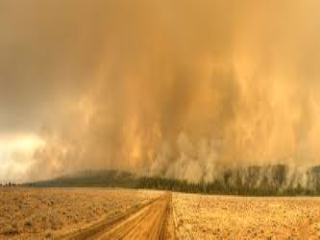smoke: (32, 14, 315, 186), (116, 117, 317, 195)
